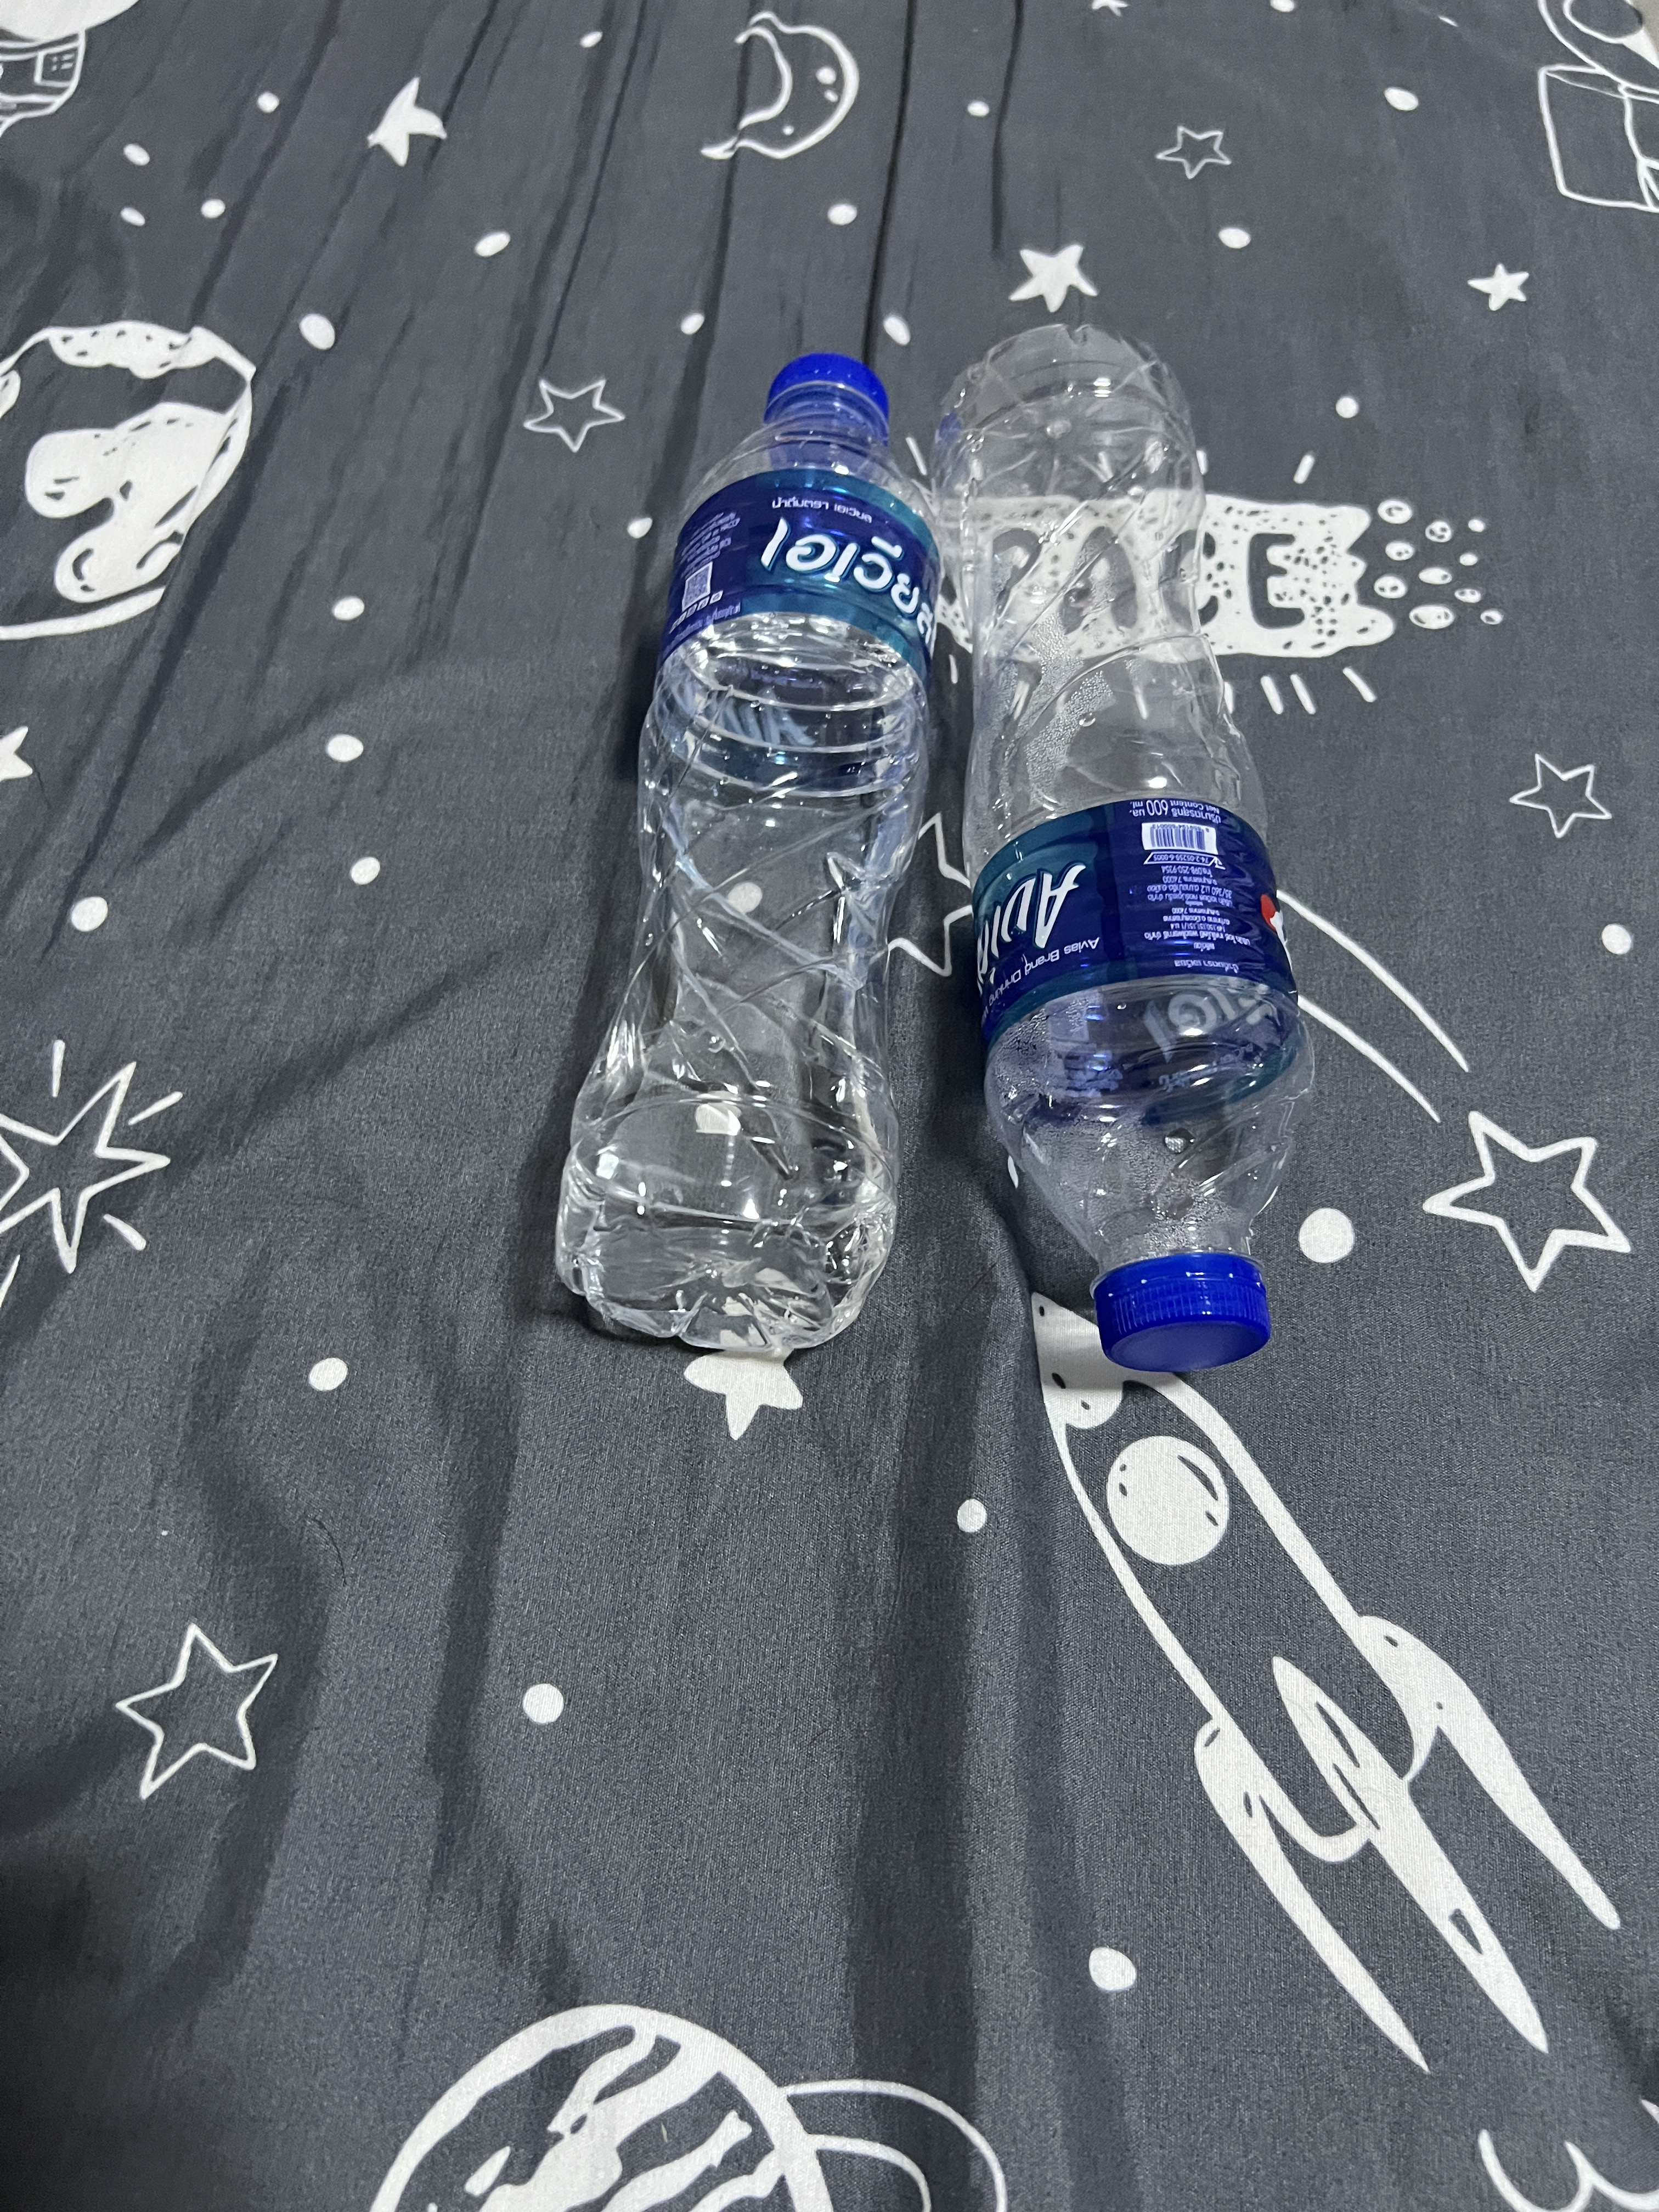plastic_bottle: (924, 287, 1328, 1420), (549, 324, 946, 1374)
